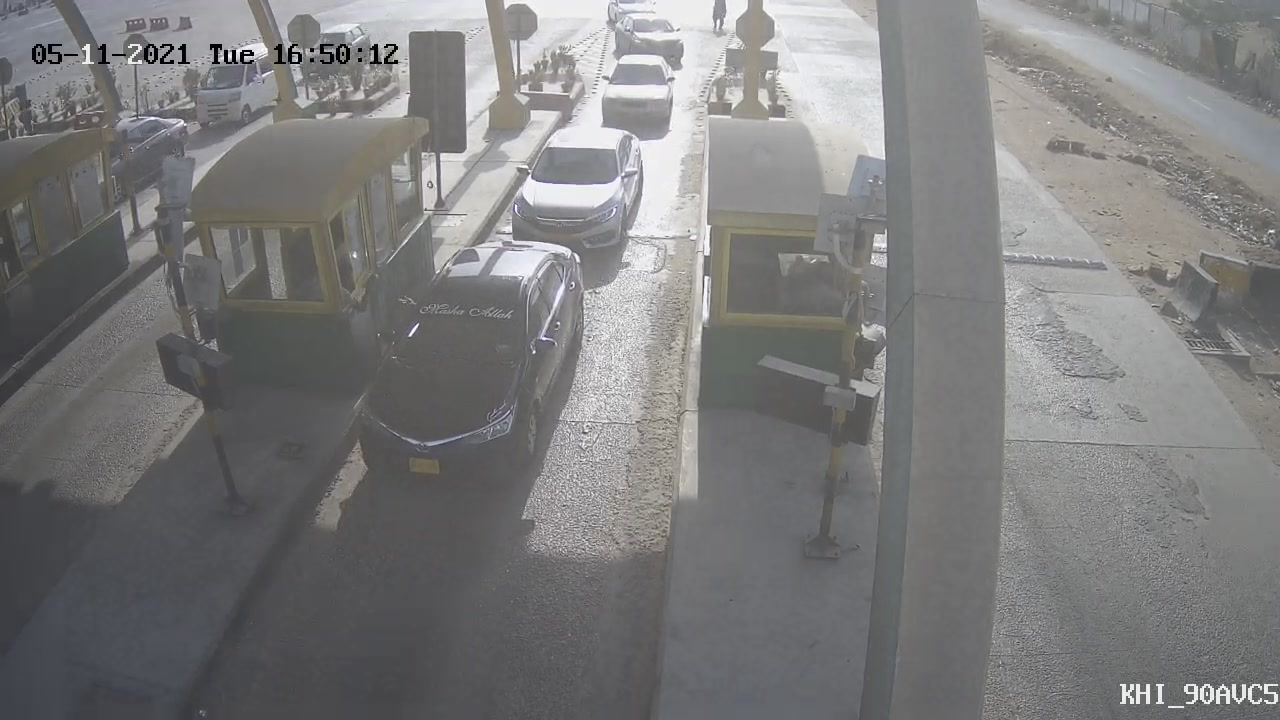F1: (326, 224, 612, 513), (494, 109, 660, 268), (589, 43, 687, 144)
